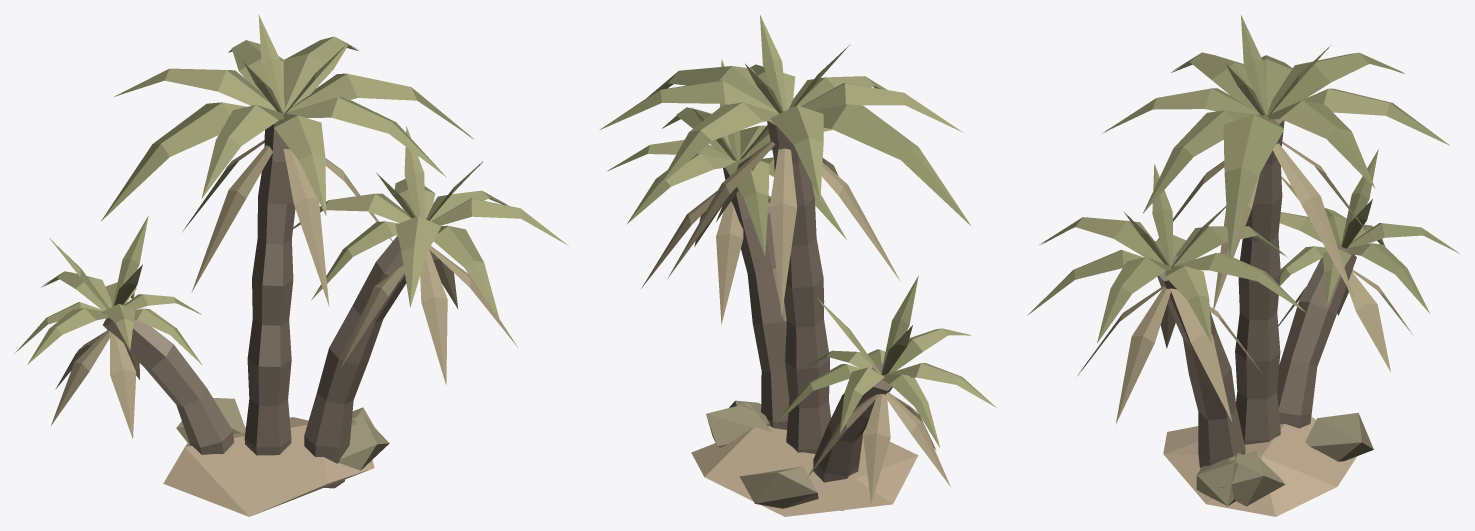
File: tree_desert_2.glb
The picture shows the model from 3 angles, left to right: view 1: azimuth 30°, elevation 25°; view 2: azimuth 150°, elevation 25°; view 3: azimuth 270°, elevation 25°; orthographic projection. The views are drawn at different scales.
Visible parts, largest first — view 1: Body; view 2: Body; view 3: Body.
Part boxes in pixels (left/top/right/bottom): Body: left=14, top=14, right=568, bottom=516; Body: left=600, top=15, right=996, bottom=516; Body: left=1027, top=15, right=1459, bottom=516.
Bounding box in the file's own units: 5.42 × 5.14 × 4.56.
